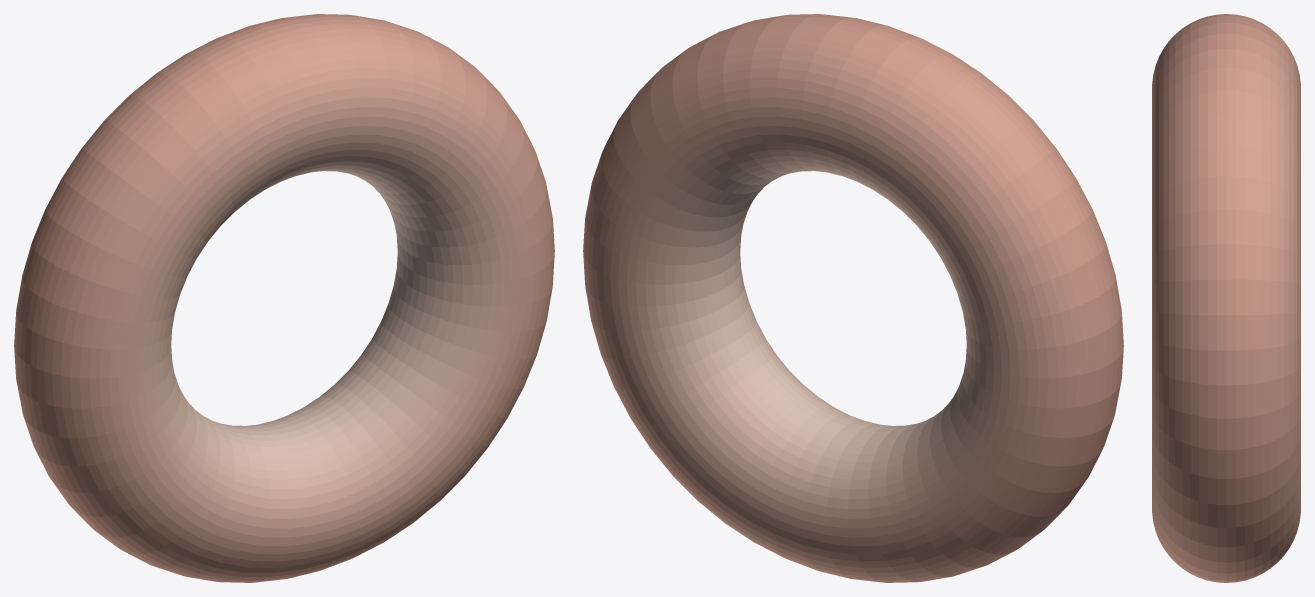
3 renders of one model, left to right at view 1: azimuth 30°, elevation 25°; view 2: azimuth 150°, elevation 25°; view 3: azimuth 270°, elevation 25°, orthographic. The views are drawn at different scales.
Visible parts, largest first — view 1: world; view 2: world; view 3: world.
Boxes of the visible parts, left/top/right/bottom form: world: left=14, top=14, right=554, bottom=582; world: left=583, top=14, right=1123, bottom=582; world: left=1152, top=14, right=1300, bottom=582.
Bounding box in the file's own units: 28 × 27.94 × 7.32.
